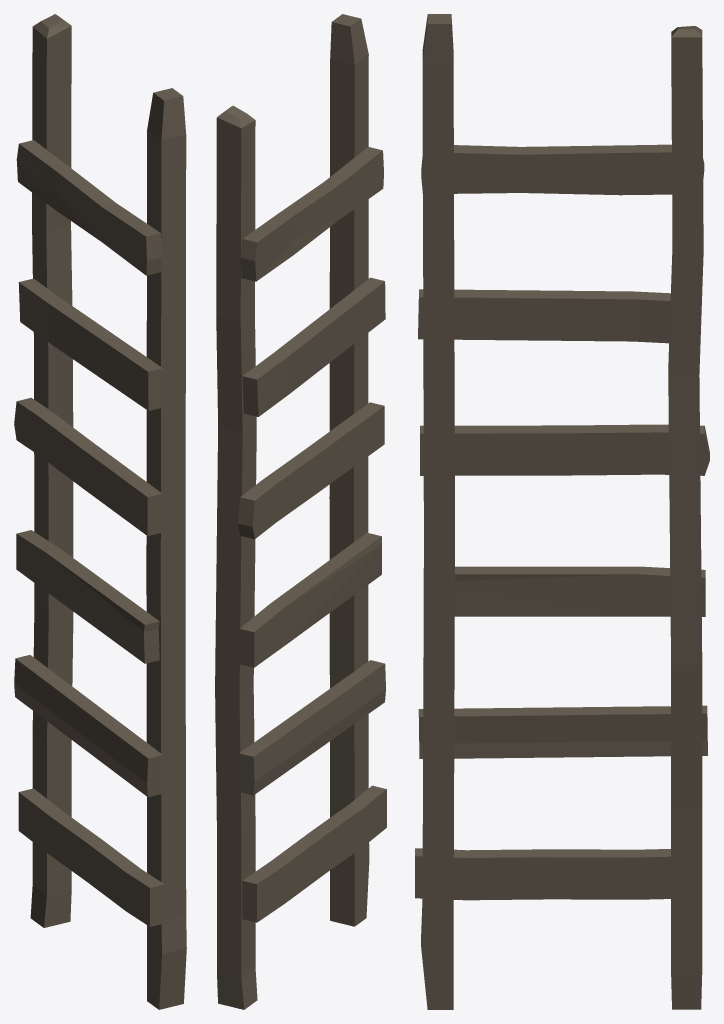
File: ladder1.dae
3 renders of one model, left to right at view 1: azimuth 30°, elevation 25°; view 2: azimuth 150°, elevation 25°; view 3: azimuth 270°, elevation 25°, orthographic. The views are drawn at different scales.
Visible parts, largest first — view 1: Cube; view 2: Cube; view 3: Cube.
Boxes of the visible parts, x1=… form: Cube: x1=14, y1=14, x2=186, y2=1009; Cube: x1=215, y1=14, x2=386, y2=1009; Cube: x1=415, y1=14, x2=709, y2=1009.
Bounding box in the file's own units: 0.1746 × 0.9494 × 3.5.
